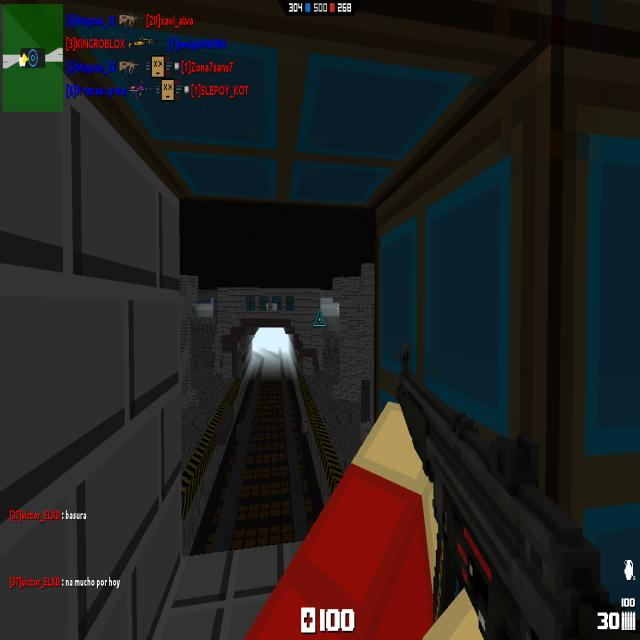enemy: (337, 304, 340, 316)
